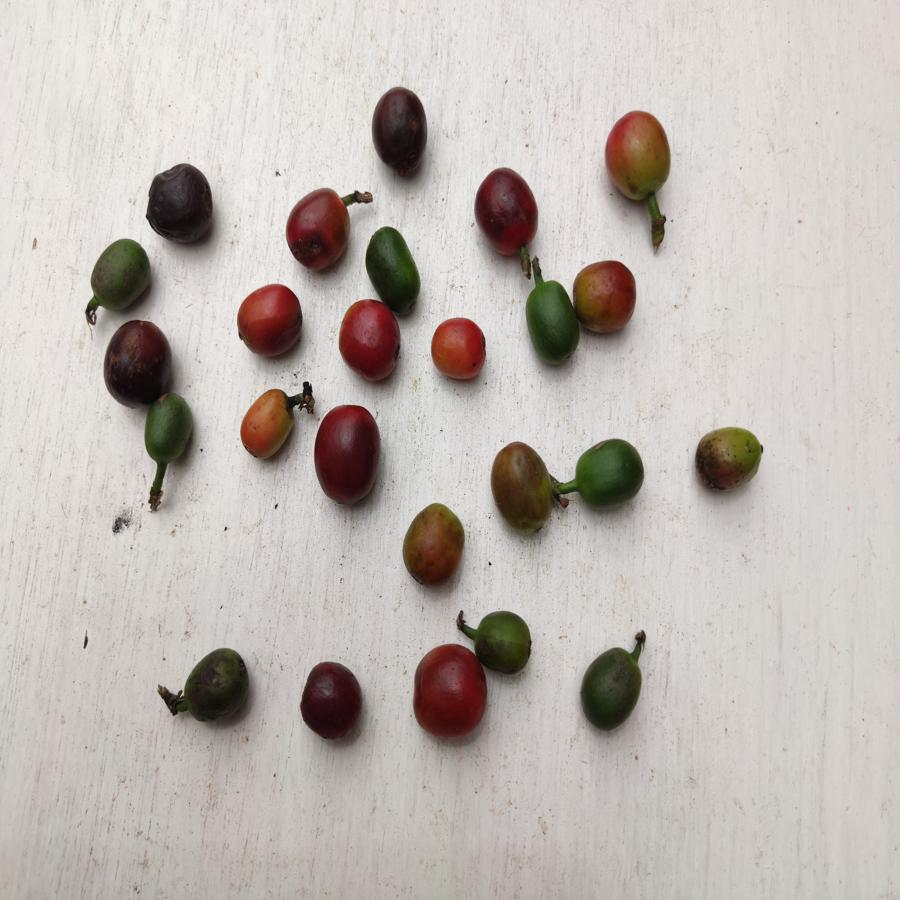Inmaduro: (581, 644, 648, 743), (573, 434, 650, 515), (183, 643, 254, 727), (361, 221, 422, 306), (524, 277, 574, 363), (473, 608, 532, 675), (91, 241, 150, 308), (146, 397, 192, 458)
Maduro: (410, 648, 489, 743), (284, 188, 352, 274), (238, 281, 307, 355), (337, 299, 399, 379)
Pinton: (599, 108, 674, 207), (491, 443, 561, 536), (690, 425, 777, 497), (396, 506, 465, 586), (233, 388, 299, 467), (425, 317, 492, 392), (572, 259, 639, 328)
Sobremaduro: (309, 401, 386, 508), (144, 159, 224, 247), (295, 652, 366, 746), (473, 163, 541, 257), (103, 319, 170, 402), (373, 86, 430, 183)
